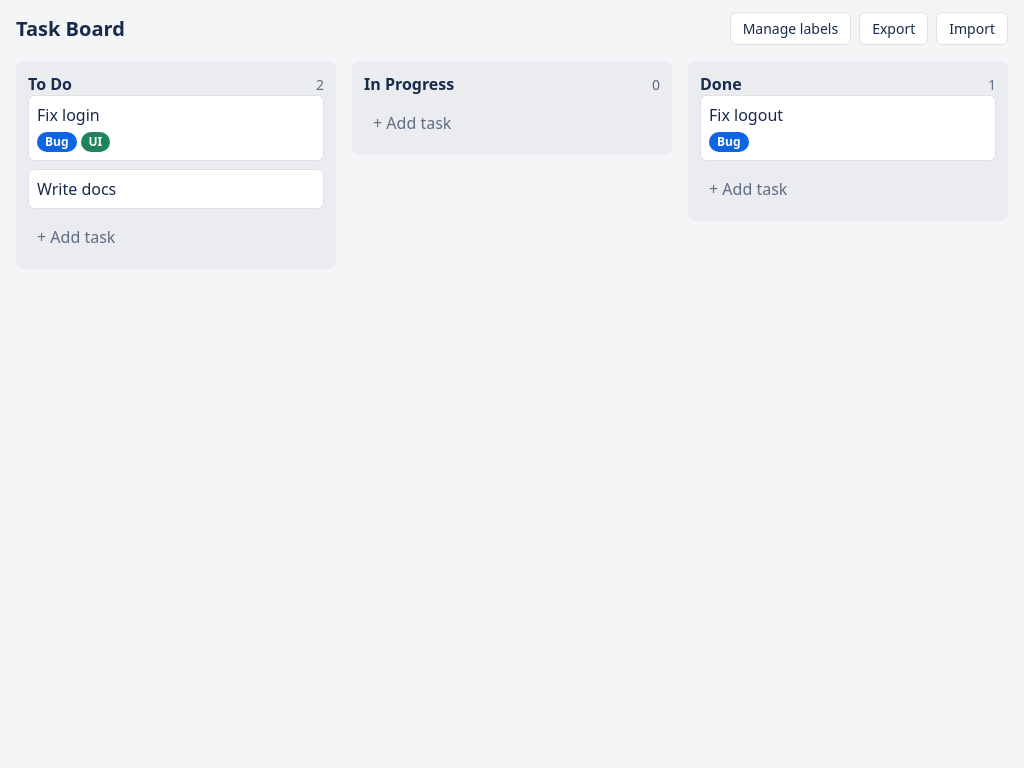
Test: Manage labels screen › rejects a rename that clashes with another Label ignoring case, with a message, until the name is fixed
Click the button "Manage labels" at (790, 28), box [730,12,851,45]
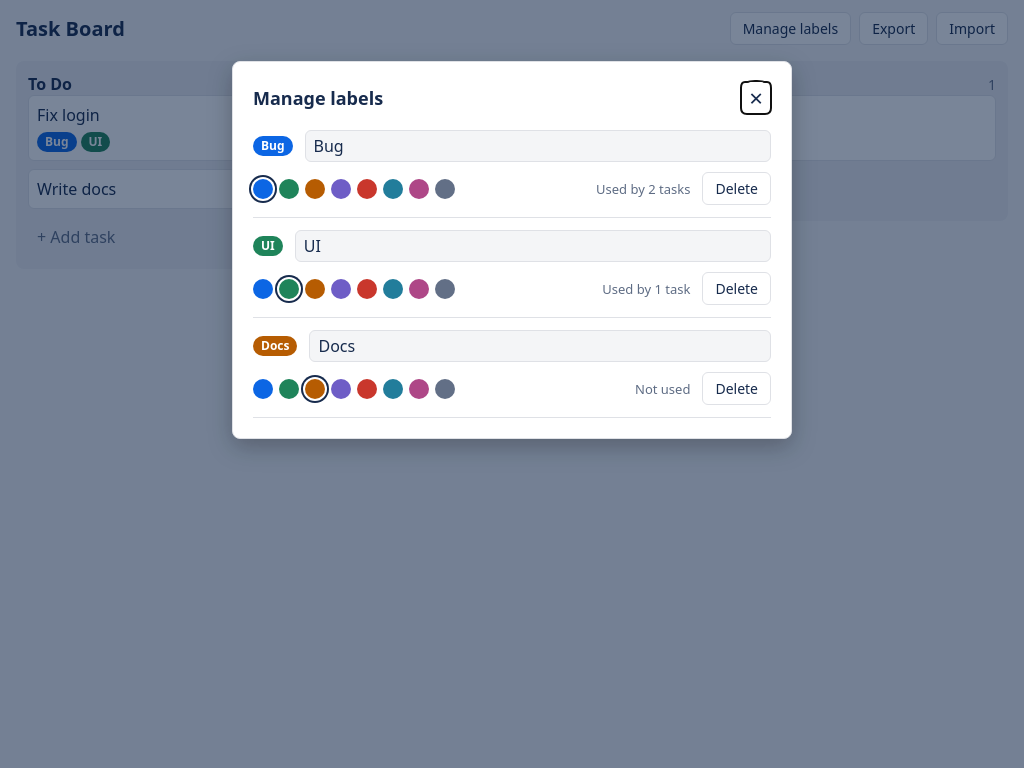
Replace the text in the 1st field named "Name" with "ui" at (538, 146), box [304,130,771,162]
Then press Enter
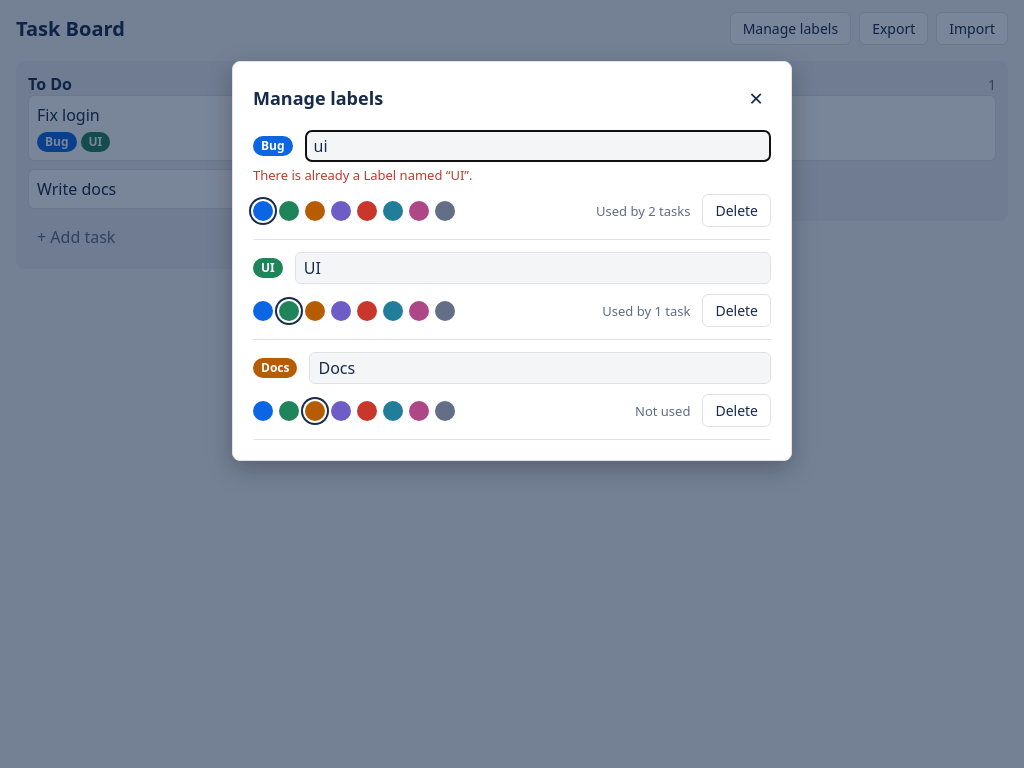
Check: the message reads "There is already a Label named “UI”.", box [253,166,472,184]
Type "x" into the 1st field named "Name" at (538, 146), box [304,130,771,162]
Then press Enter
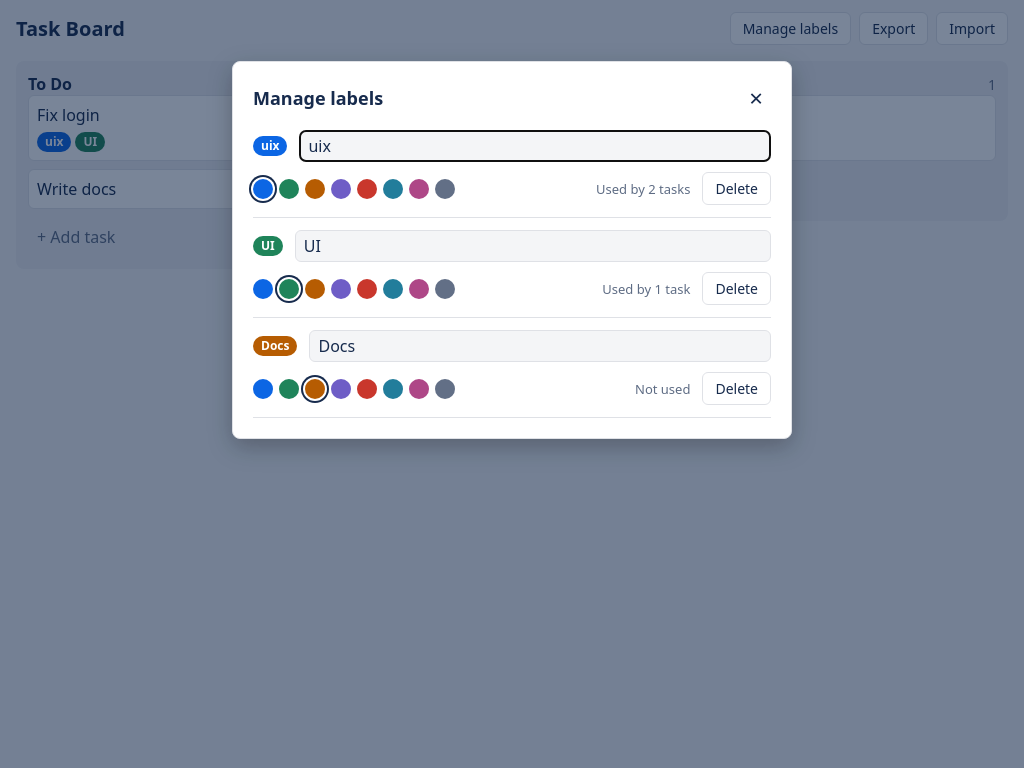
Check: the message "There is already a Label named “UI”." is gone
